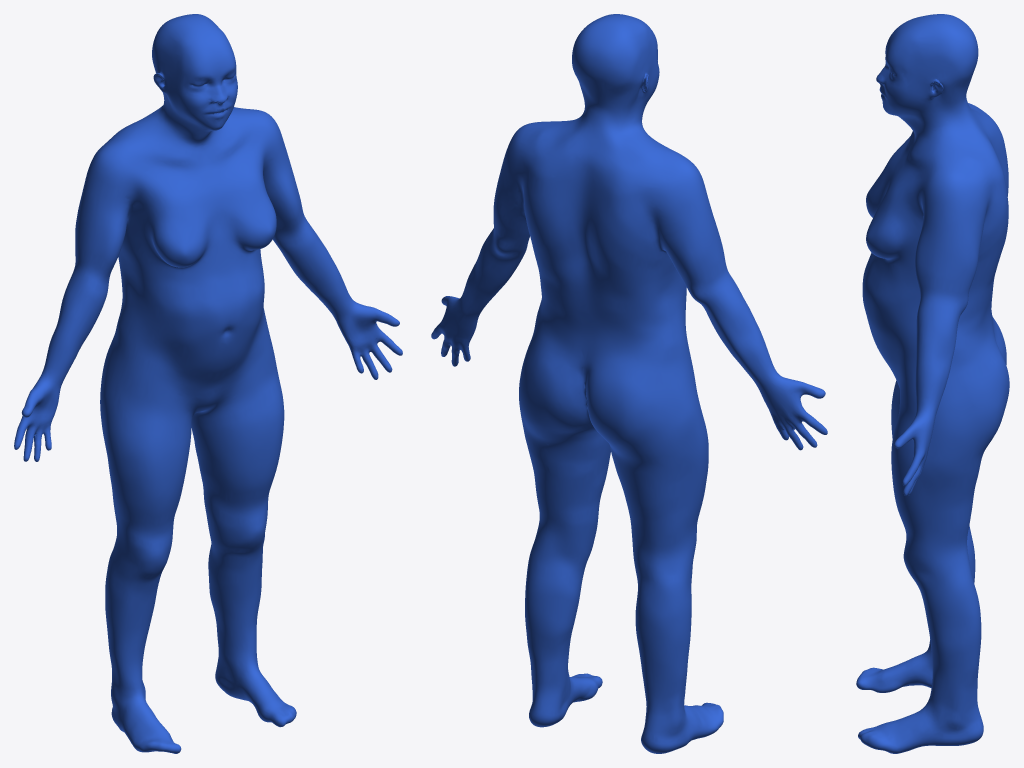
Rendered from 3d-vh-f-skin-20.glb.
3 views of the same model, side by side, from view 1: azimuth 30°, elevation 25°; view 2: azimuth 150°, elevation 25°; view 3: azimuth 270°, elevation 25° (orthographic).
Parts seen in each view (by area): view 1: VH_F_skin; view 2: VH_F_skin; view 3: VH_F_skin.
Boxes of the visible parts, box(x1,y1,x2,y2) form: VH_F_skin: box(14, 14, 402, 753); VH_F_skin: box(431, 14, 827, 753); VH_F_skin: box(856, 14, 1009, 753).
Size of the model in its own units: 0.9674 by 1.67 by 0.3292.
